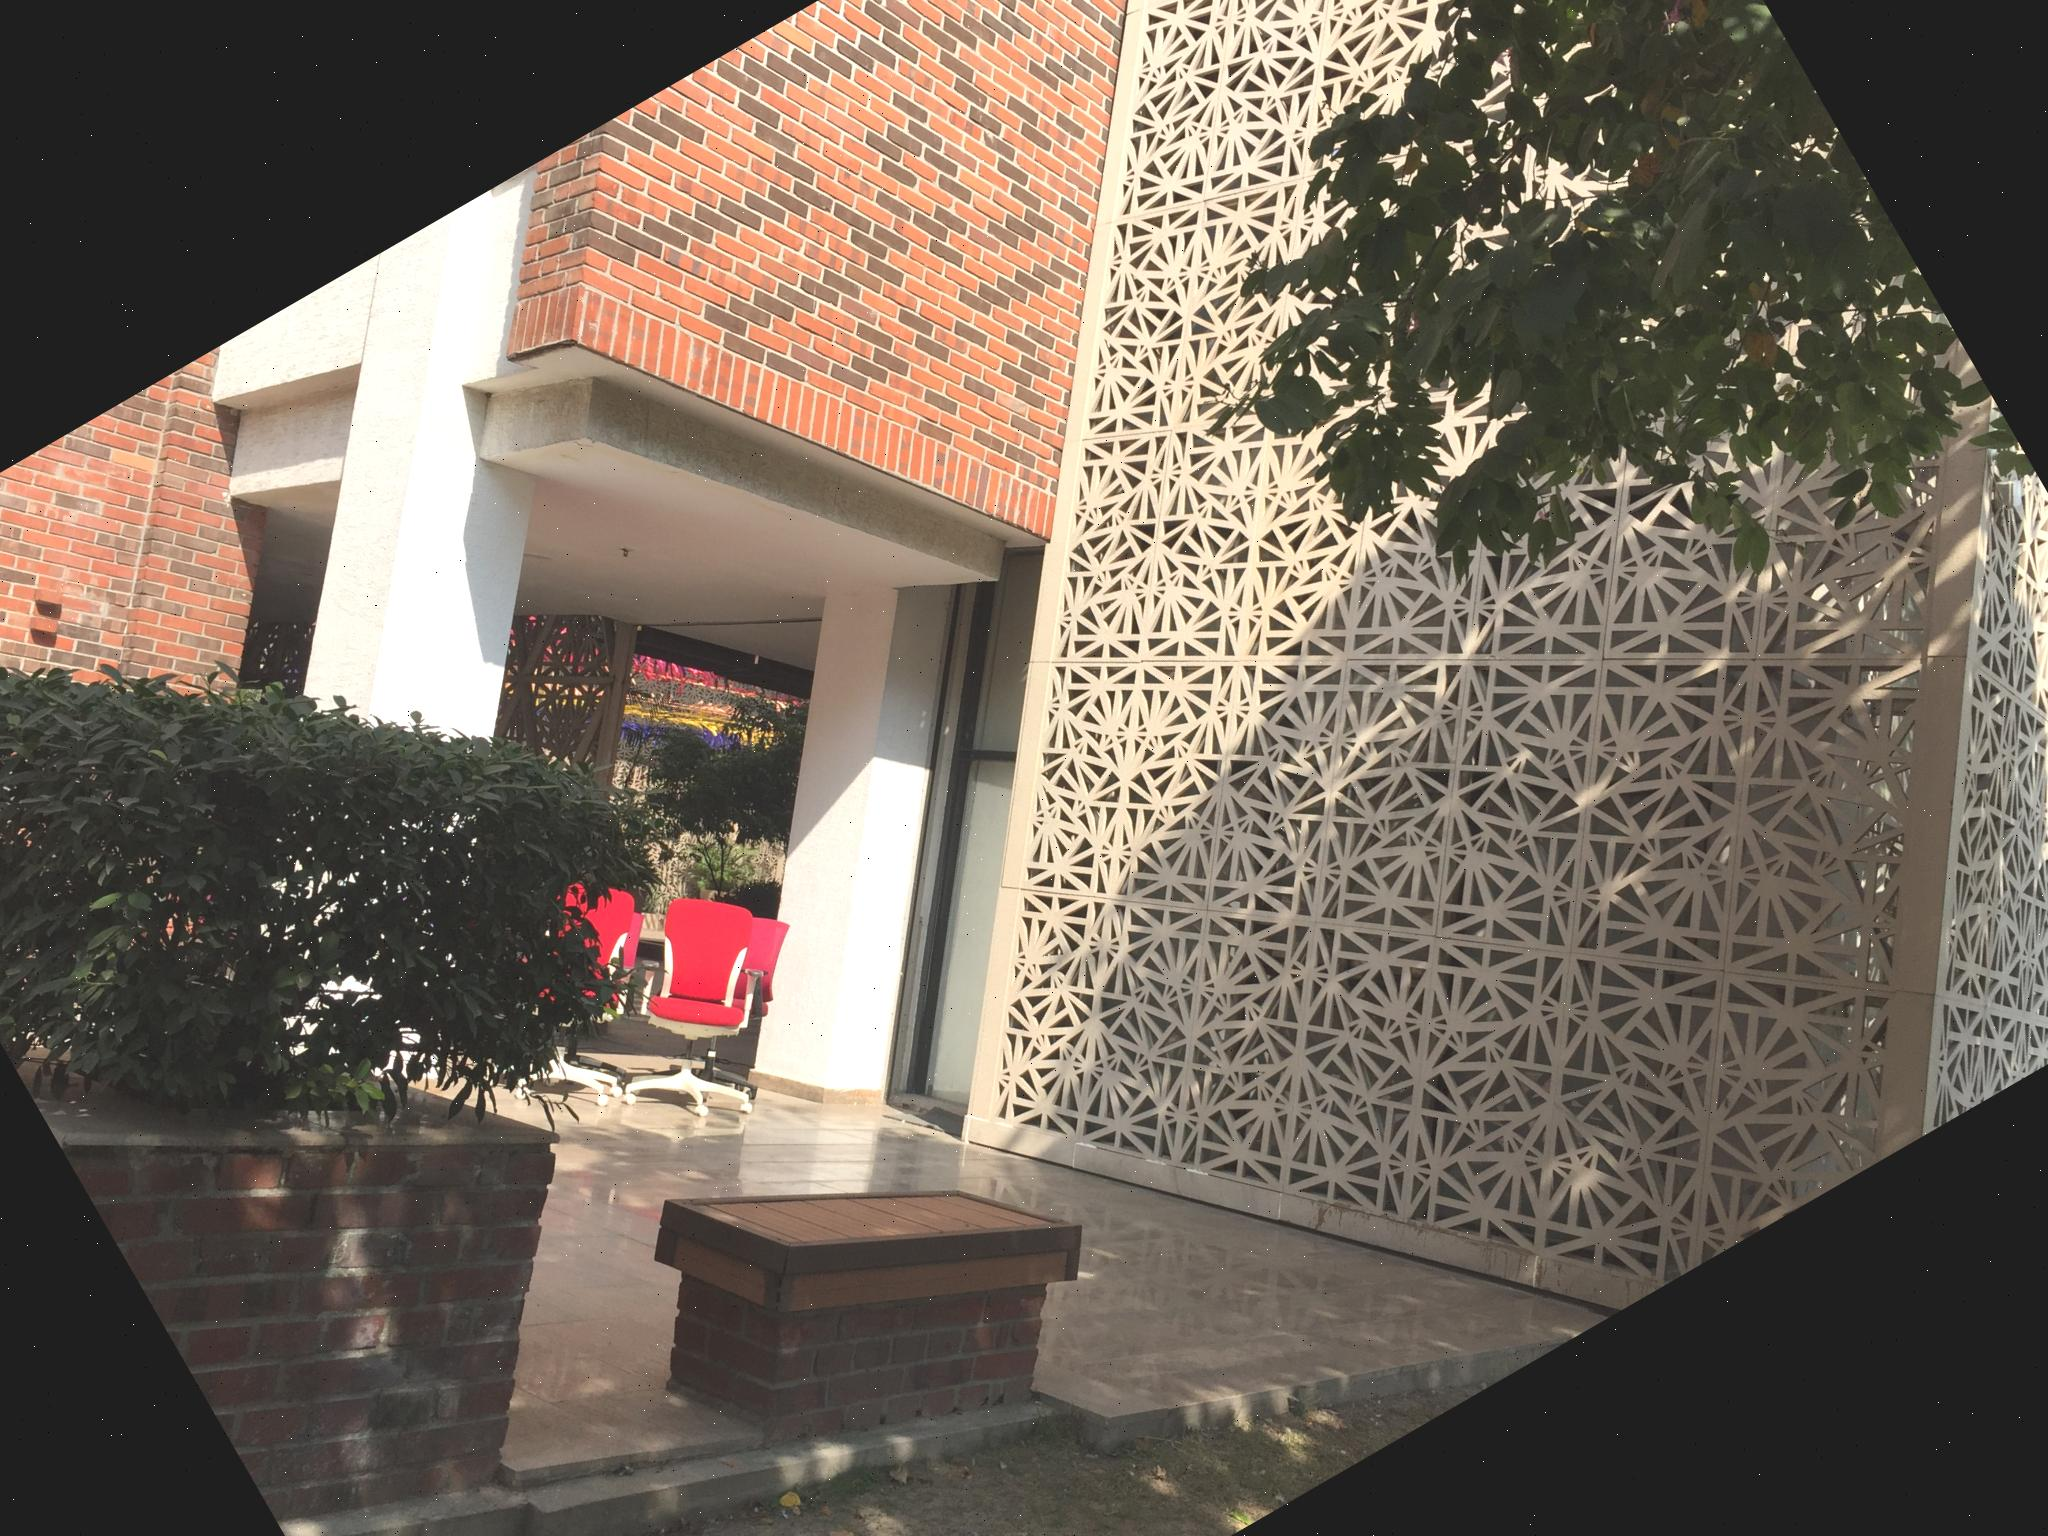chair: (605, 855, 822, 1066), (539, 874, 684, 1031)
